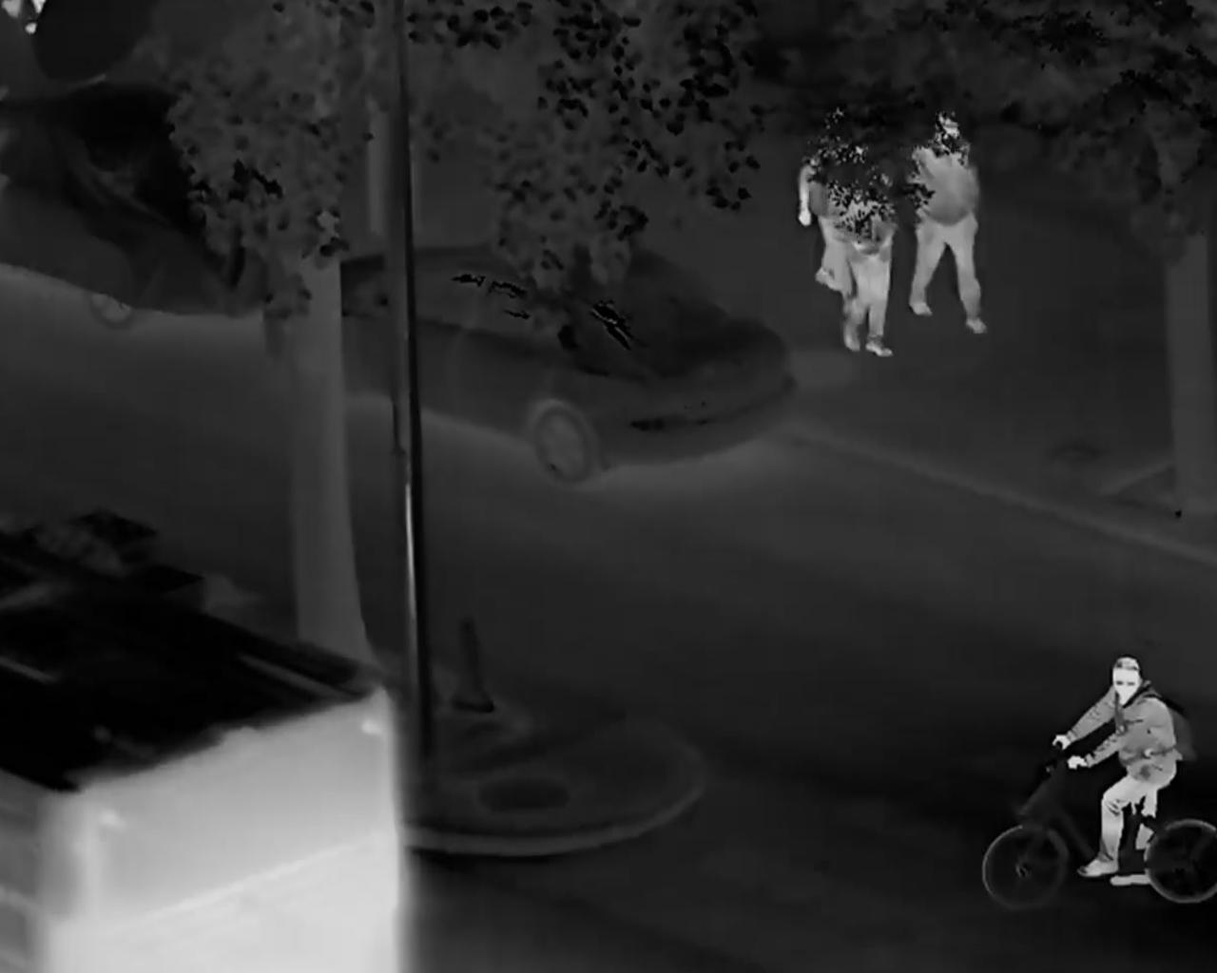person: (1051, 658, 1177, 887), (907, 113, 984, 334), (795, 107, 861, 295), (838, 159, 893, 357)
